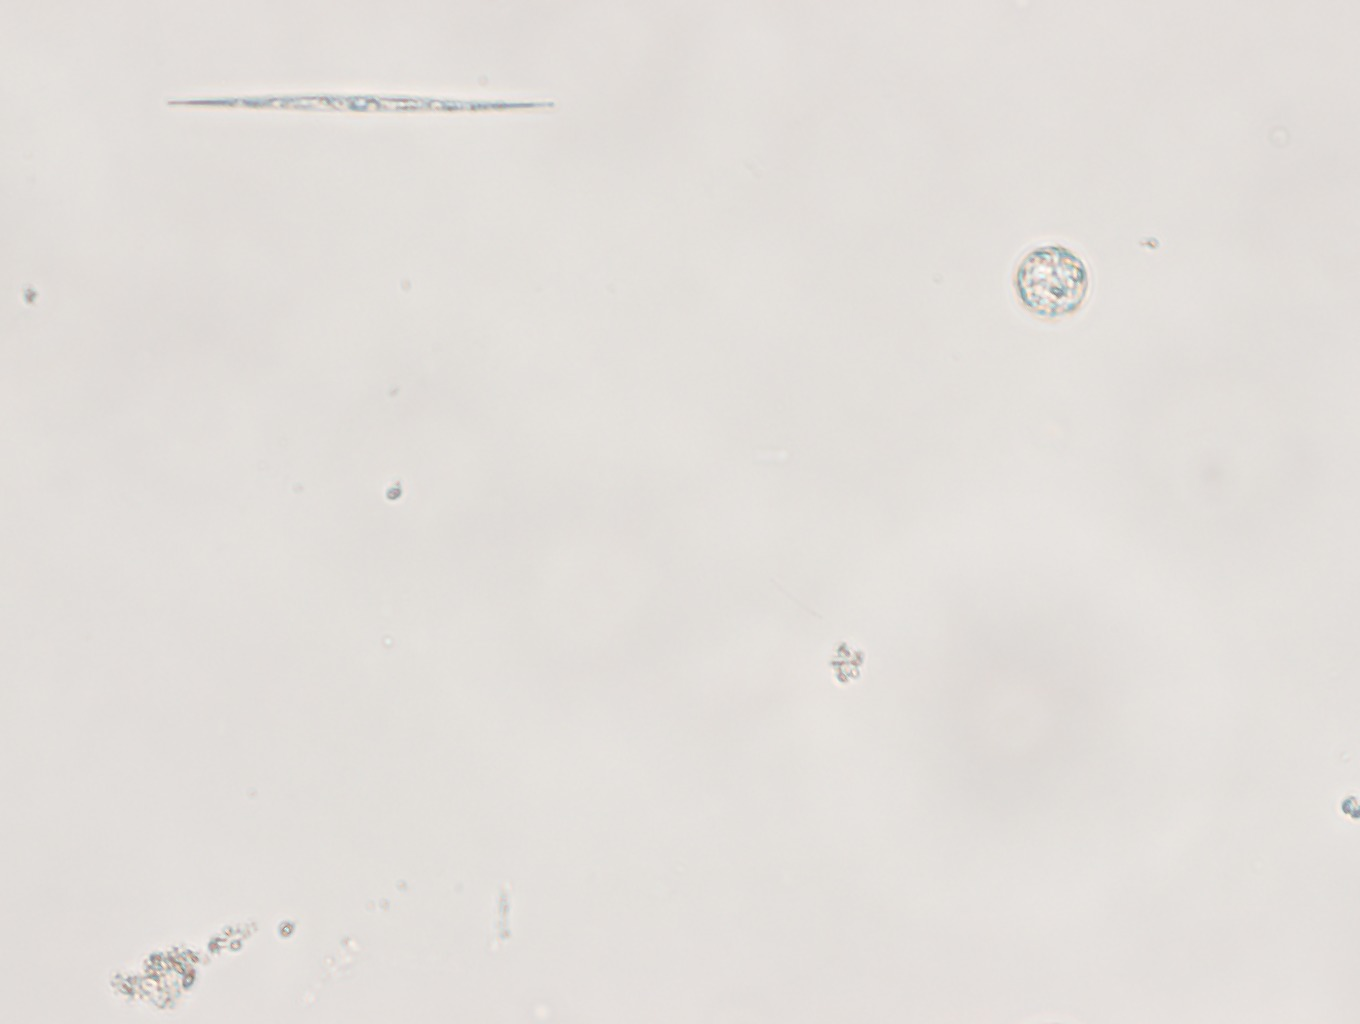pleurosigma pelagicum: (153, 80, 561, 139)
